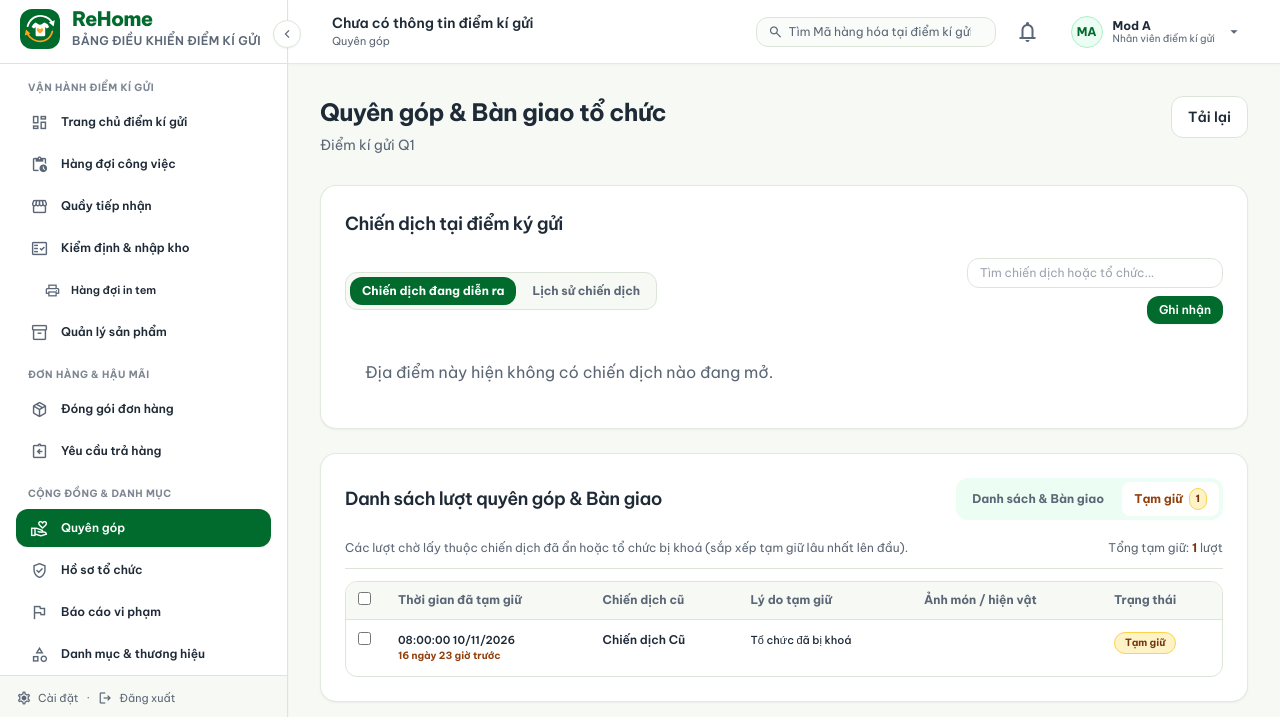
Scenario: Donation ON_HOLD & Org Lock Review Flows › shows empty campaign message in reassign modal when no active campaigns exist
Click the checkbox named "Chọn lượt tạm giữ don-1" at (364, 638), box [358,632,371,645]
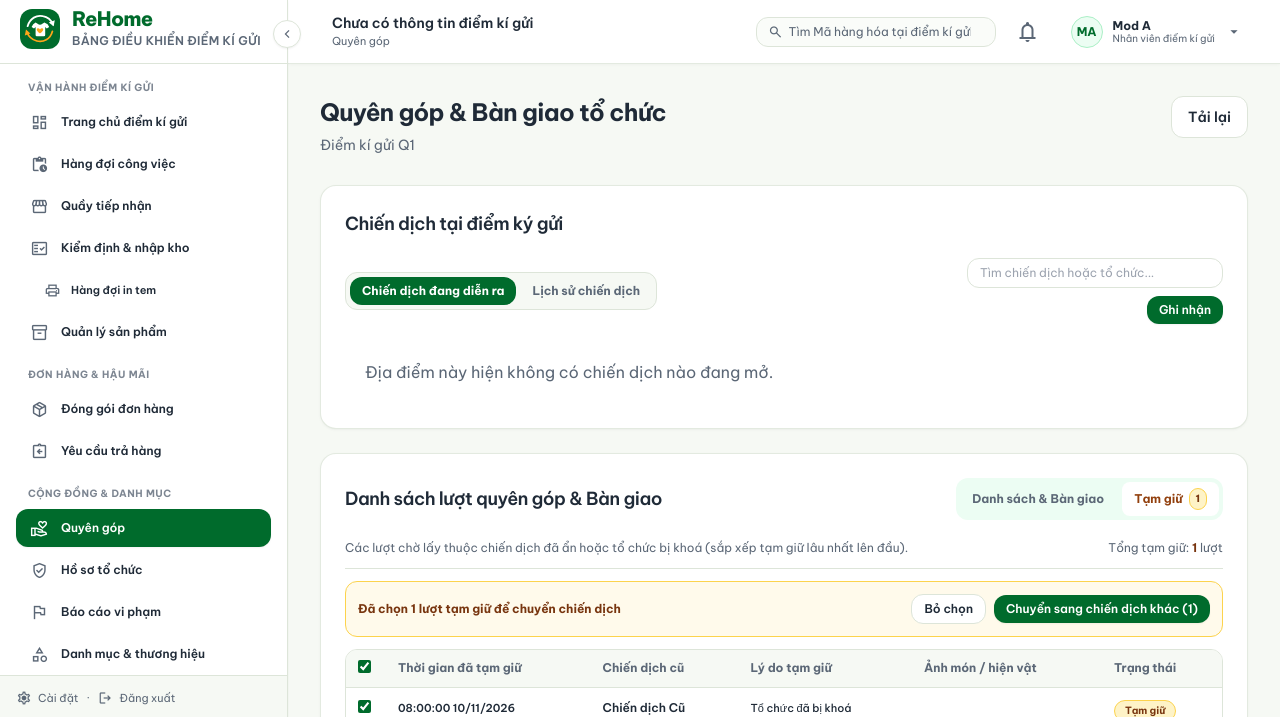
Click the button "Chuyển sang chiến dịch khác (1)" at (1102, 609), box [994,595,1210,623]
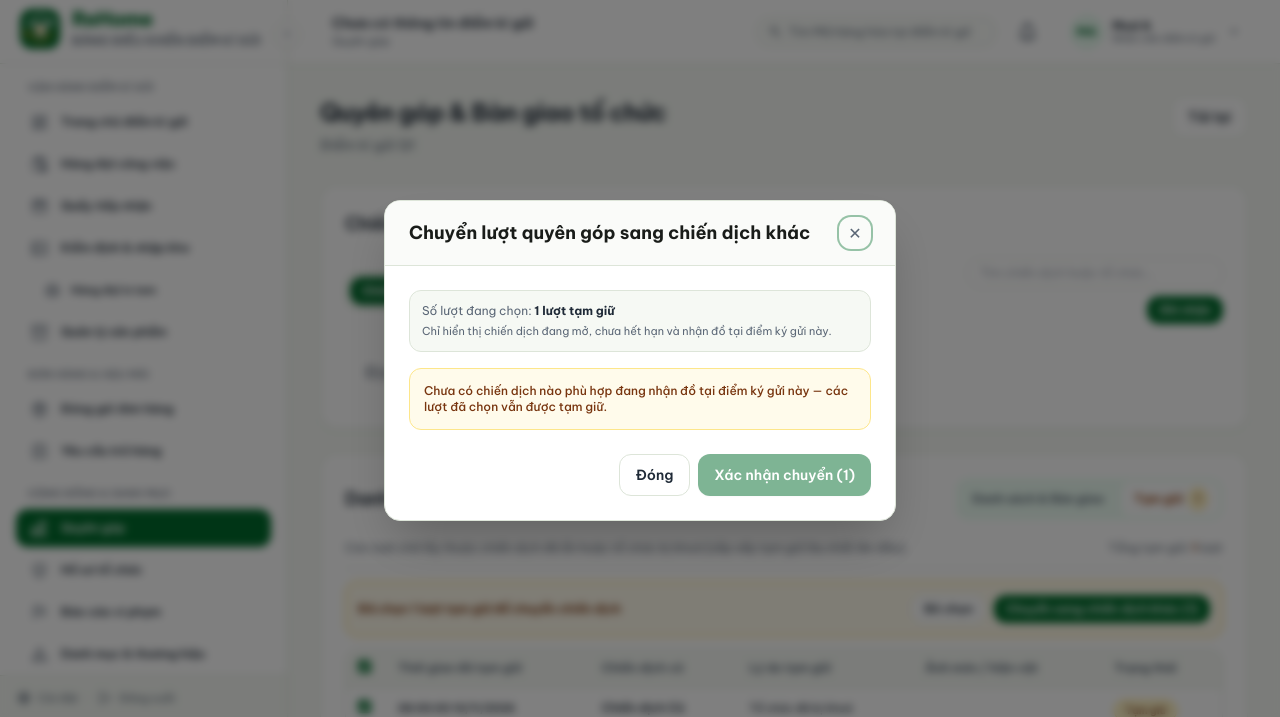
Expected: the button "Xác nhận chuyển (1)" is disabled, [698,454,871,496]
